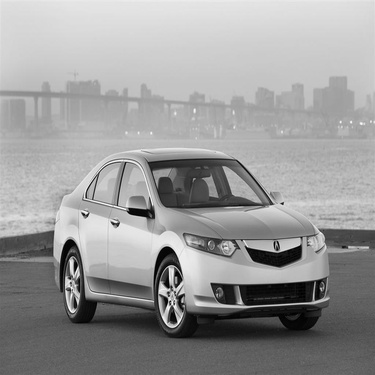car: (38, 137, 336, 340)
